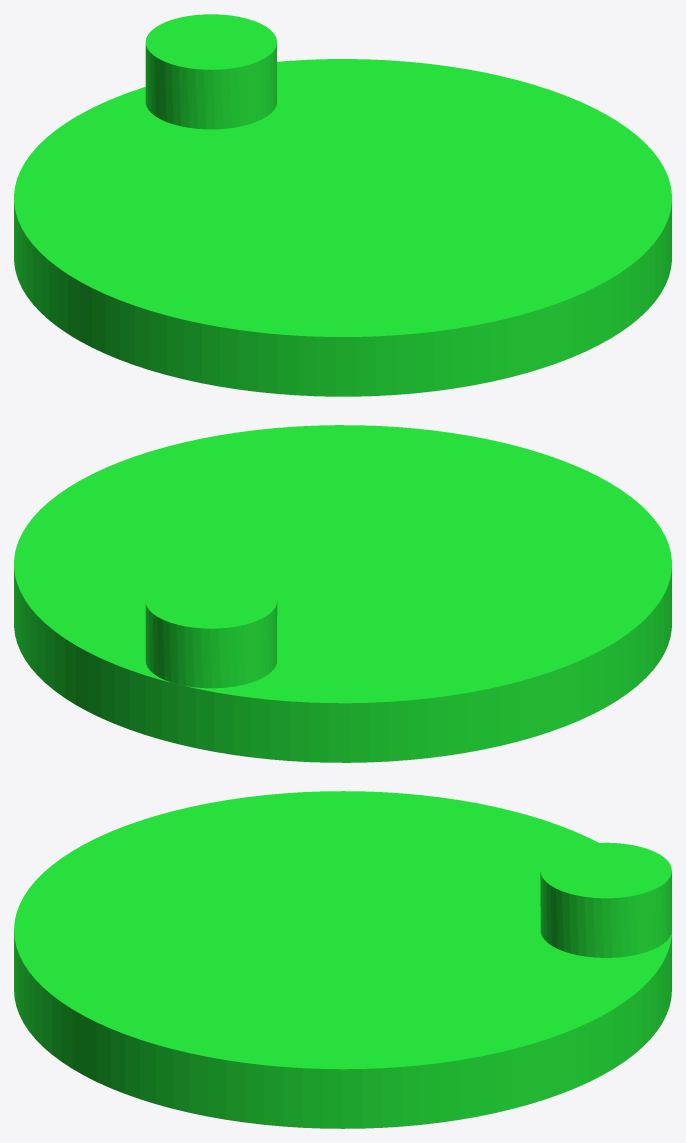
3 renders of one model, top to bottom at view 1: azimuth 30°, elevation 25°; view 2: azimuth 150°, elevation 25°; view 3: azimuth 270°, elevation 25°, orthographic.
Size of the model in its own units: 100 by 30 by 100.
